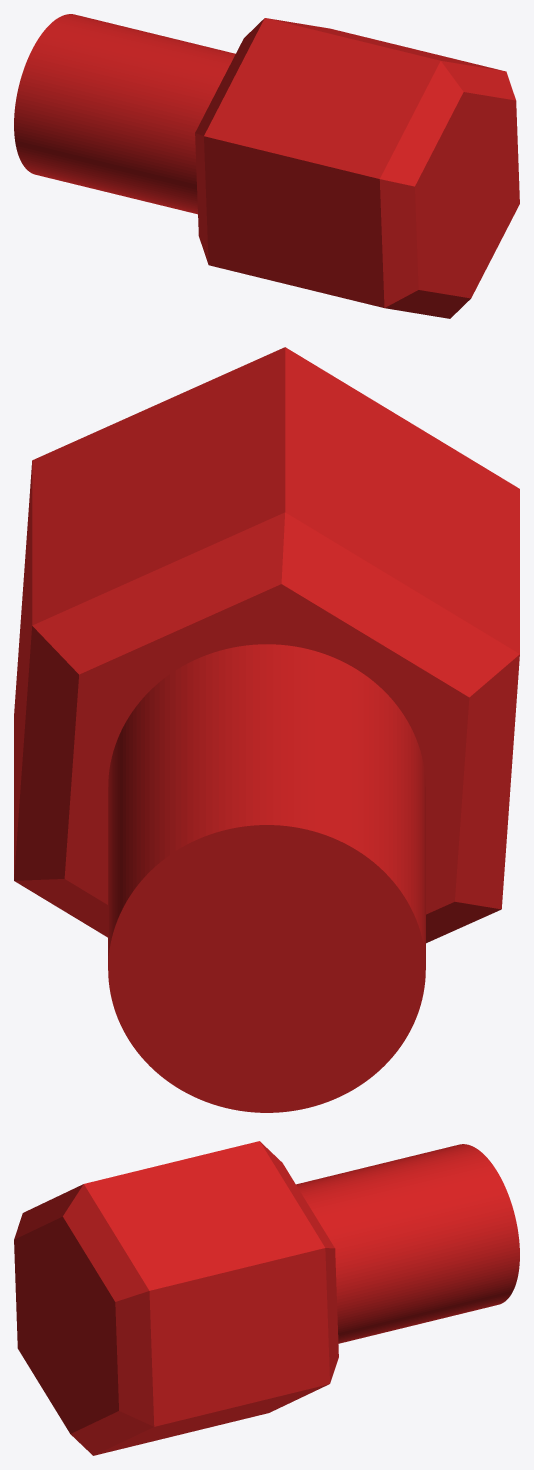
Rendered from 4_colored.obj.
3 renders of one model, top to bottom at view 1: azimuth 30°, elevation 25°; view 2: azimuth 150°, elevation 25°; view 3: azimuth 270°, elevation 25°, orthographic. The views are drawn at different scales.
Size of the model in its own units: 0.0323 by 0.023 by 0.0399.
